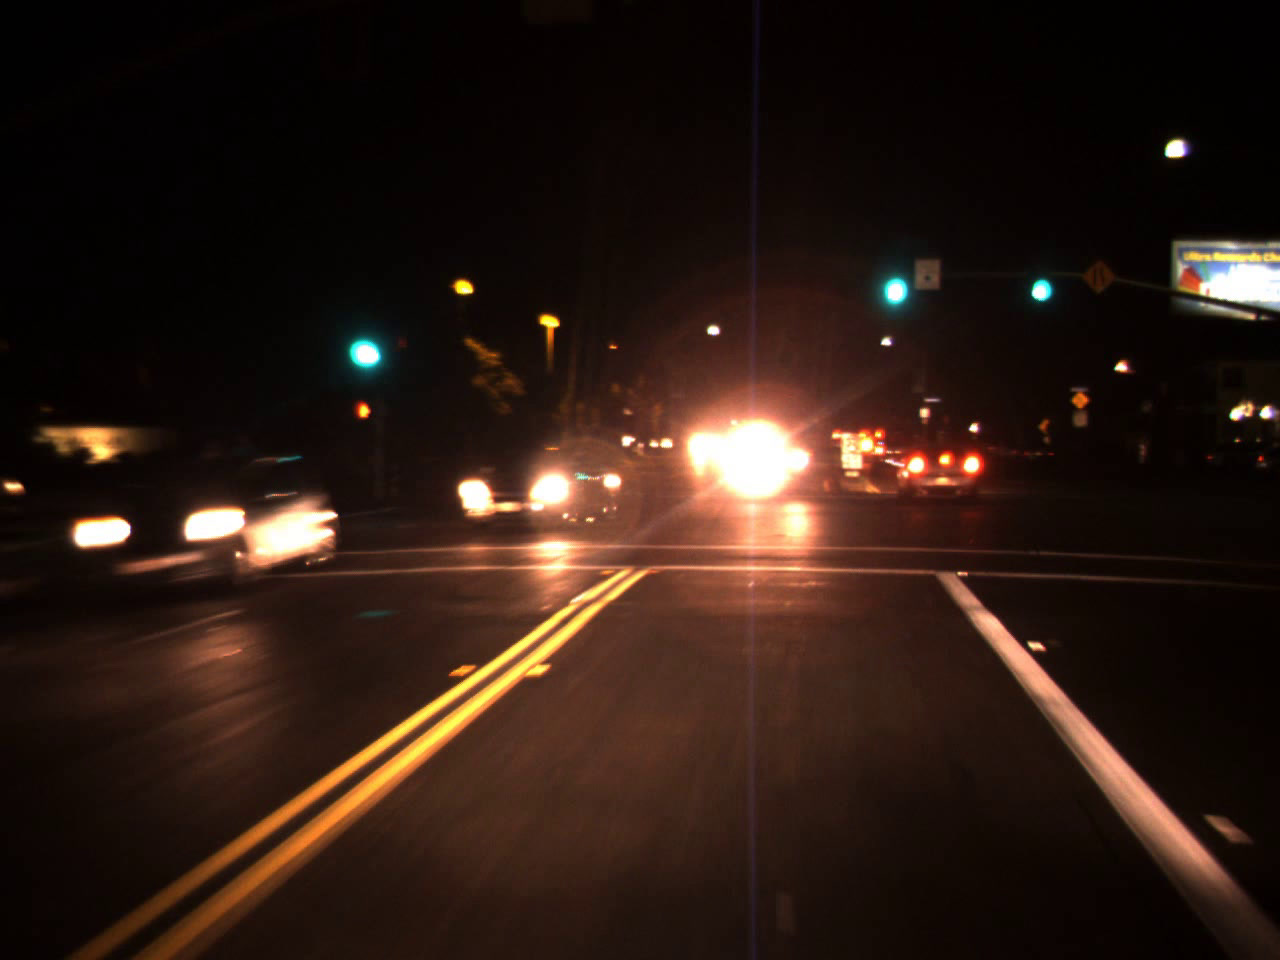go: (336, 299, 388, 380), (874, 241, 913, 316), (1024, 250, 1054, 310)
